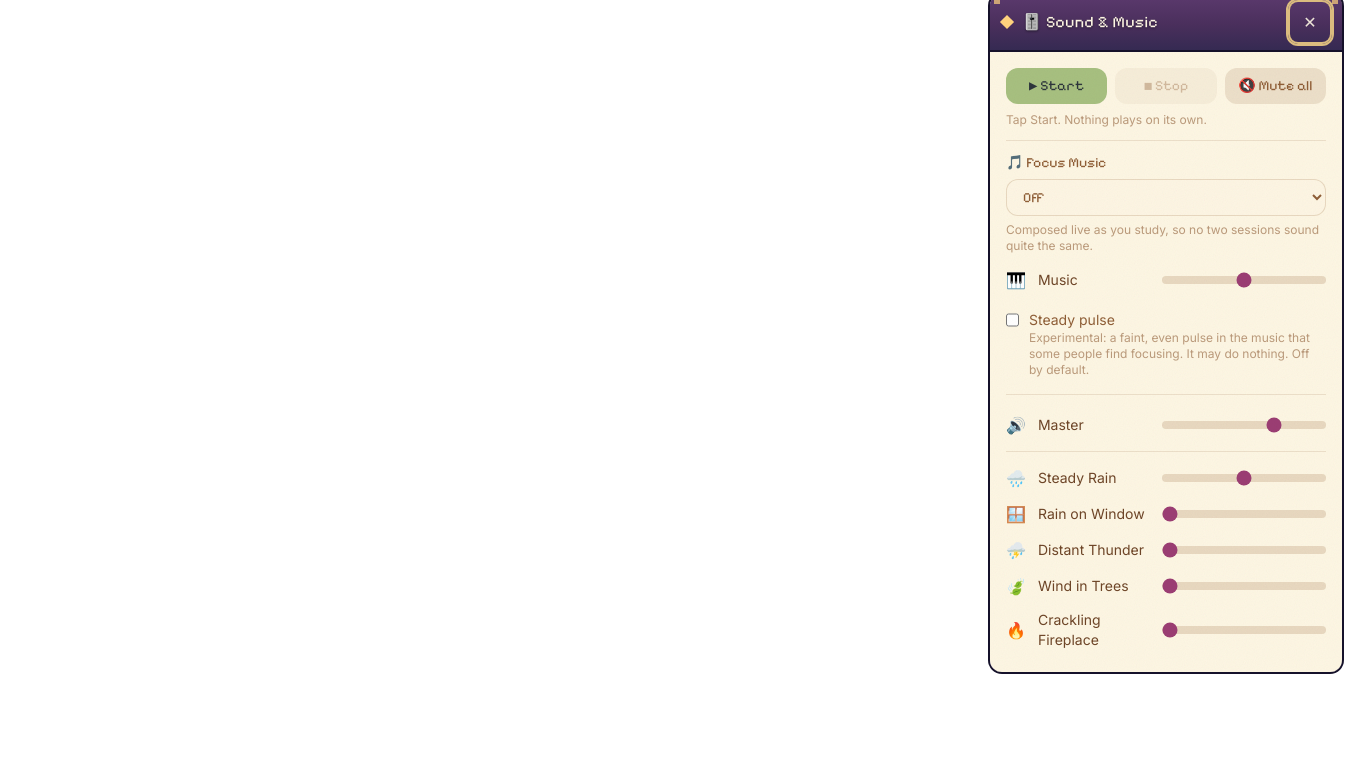
Scenario: AmbientMixerDrawer — Sound & Music › the entrainment toggle is opt-in, honestly labeled, and persists
This screenshot has width=1366, height=768.
Click the checkbox labelled "Steady pulse" at (1012, 320), box x1=1006 y1=312 x2=1019 y2=328
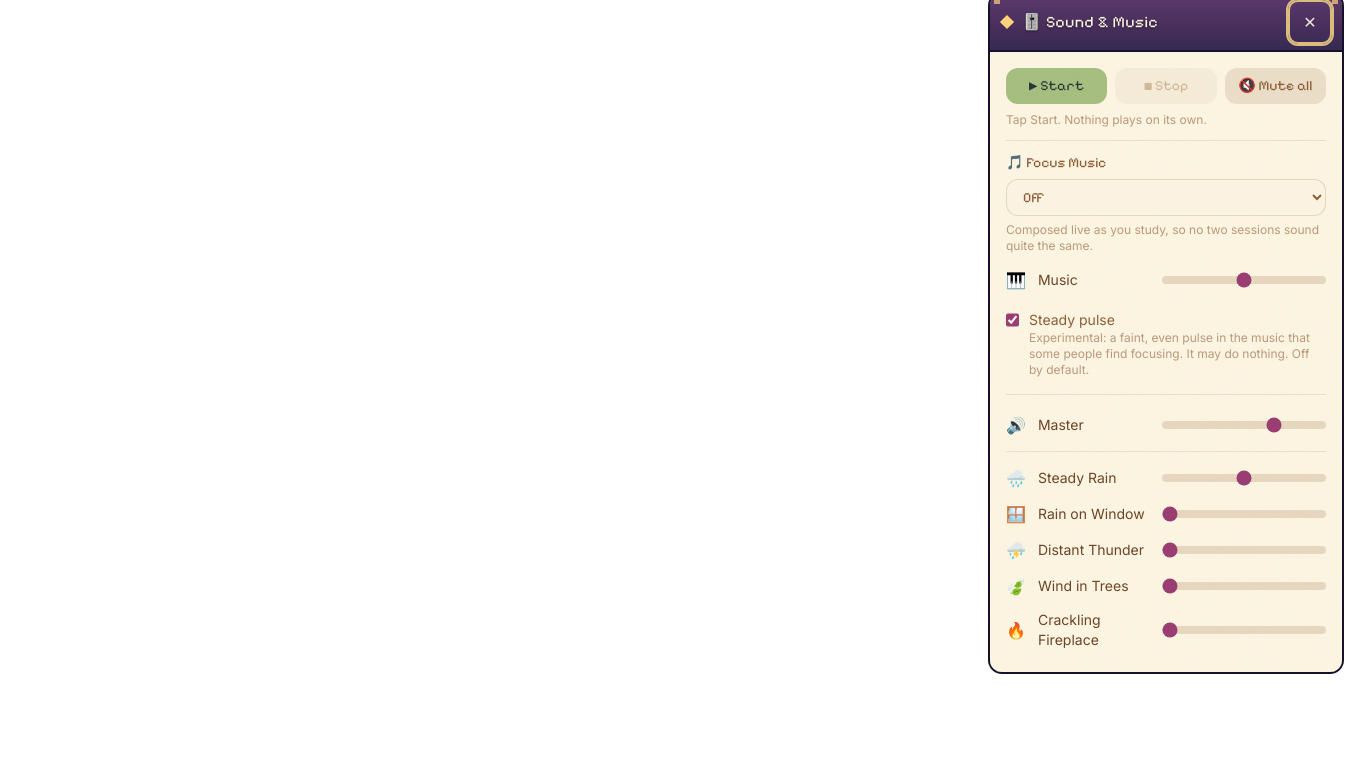
Now the checkbox labelled "Steady pulse" is checked, box x1=1006 y1=312 x2=1019 y2=328
